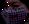with_mask: (1, 1, 29, 24)
